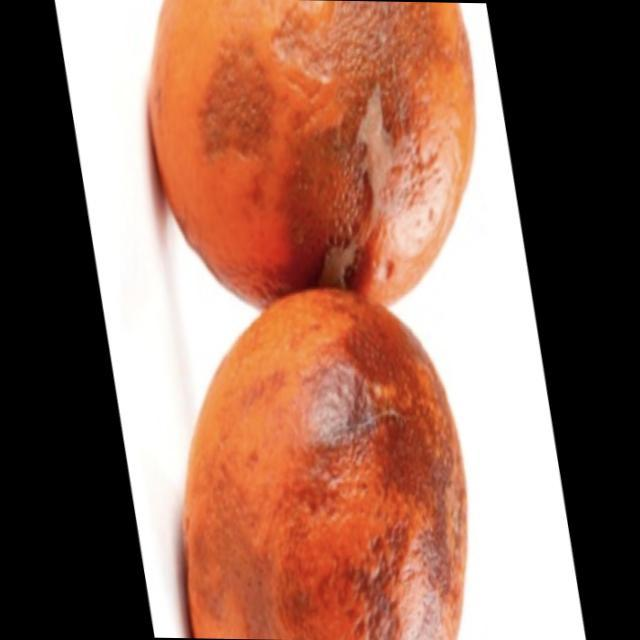rotten orange: (145, 0, 476, 309), (179, 286, 468, 639)
